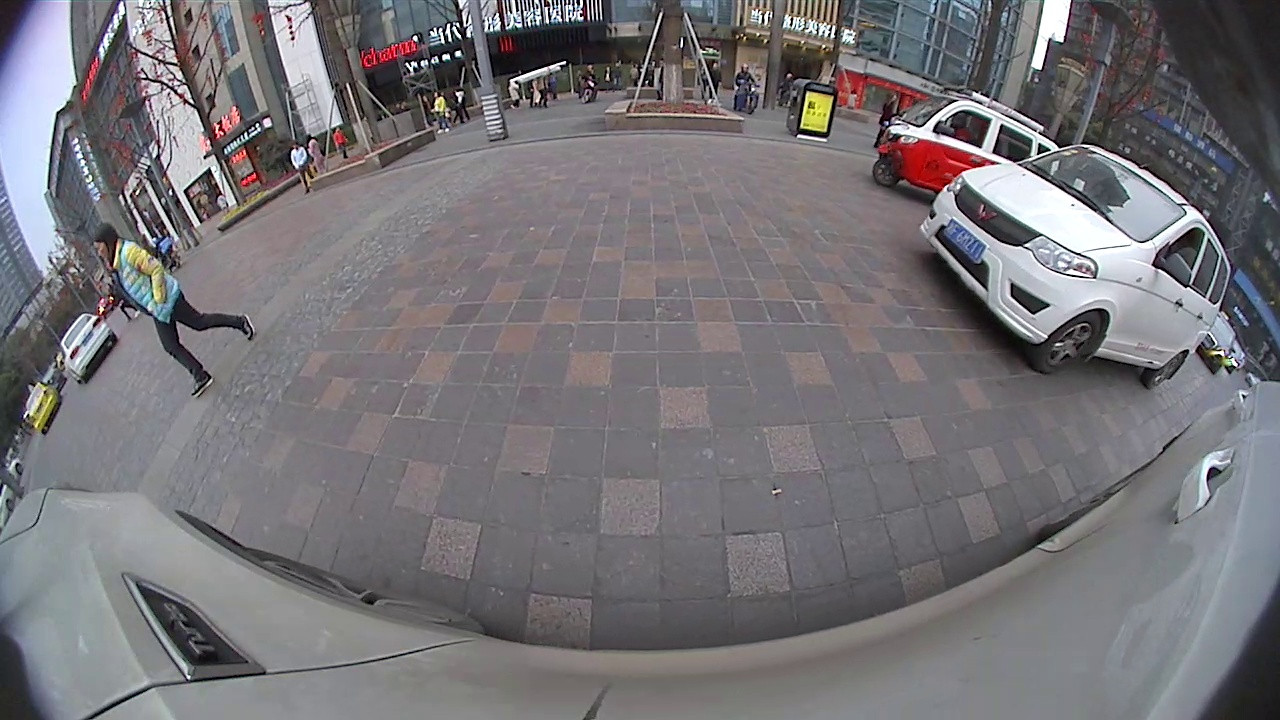car: (917, 142, 1232, 393), (56, 309, 119, 388), (21, 379, 65, 435)
front: (1036, 309, 1106, 379), (870, 155, 905, 191)
person: (93, 221, 142, 374)
rear: (1145, 347, 1186, 393)
rider: (871, 85, 1064, 196)
